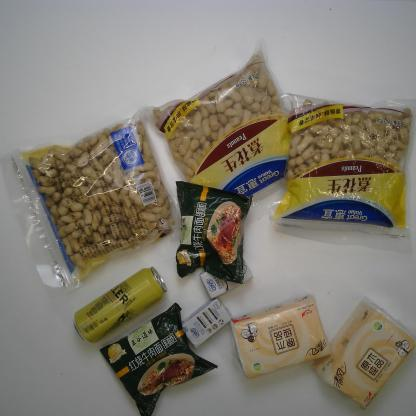Alcohol: (70, 265, 169, 344)
Dried Food: (8, 110, 190, 290), (147, 46, 314, 221), (271, 92, 414, 246)
Instant Noodles: (100, 302, 219, 414), (173, 180, 253, 284)
Milk: (178, 298, 233, 346), (198, 256, 253, 298)
Tissue: (308, 297, 414, 408), (230, 294, 330, 379)
